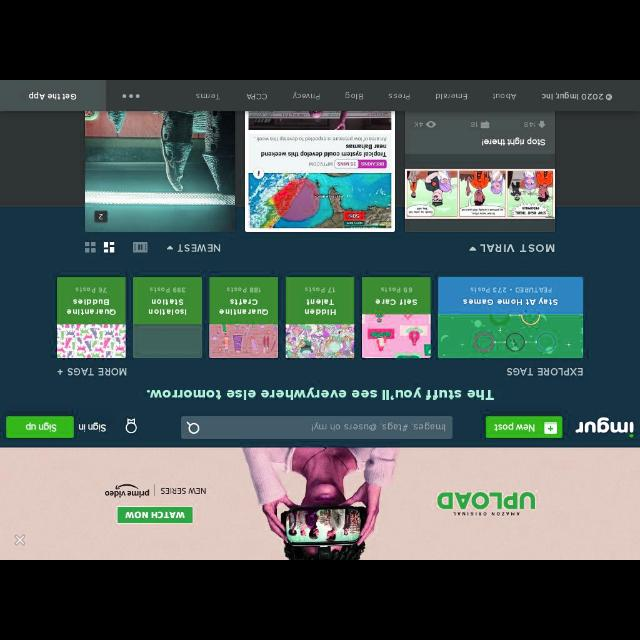icon: (124, 416, 138, 434), (186, 420, 200, 434), (132, 242, 148, 252), (104, 241, 116, 253), (122, 92, 140, 100), (546, 422, 556, 434), (85, 242, 95, 252), (481, 120, 489, 128), (538, 120, 546, 128), (426, 122, 436, 128), (469, 245, 476, 251), (57, 369, 63, 375), (167, 246, 175, 250)
iframe: (1, 448, 639, 560)
image: (85, 111, 233, 231), (248, 172, 389, 226), (406, 170, 554, 218), (437, 315, 583, 359), (362, 314, 432, 358), (249, 112, 391, 130), (286, 324, 354, 358), (210, 324, 278, 358), (58, 324, 125, 358), (132, 325, 202, 357), (576, 416, 634, 438)
input: (182, 414, 452, 440)
spinner: (468, 242, 556, 254), (165, 242, 222, 254)
text: (34, 386, 608, 402), (260, 144, 388, 158), (310, 421, 446, 432), (66, 296, 116, 318), (542, 90, 612, 104), (218, 298, 268, 316), (506, 366, 584, 376), (462, 297, 558, 305), (480, 243, 556, 253), (262, 137, 386, 143), (148, 298, 186, 316), (470, 286, 552, 294), (482, 136, 546, 146), (67, 367, 126, 377), (304, 299, 336, 317), (28, 92, 78, 102), (494, 422, 536, 433), (374, 296, 418, 306), (179, 242, 221, 252), (25, 422, 57, 432), (75, 284, 107, 294), (436, 91, 468, 101), (148, 286, 186, 294), (225, 286, 262, 294), (80, 422, 106, 433), (303, 286, 337, 294), (290, 92, 322, 100), (195, 92, 221, 101), (388, 91, 410, 101), (378, 288, 414, 294), (346, 90, 364, 100), (492, 94, 516, 100), (246, 94, 268, 100), (526, 120, 536, 128), (413, 120, 422, 128), (470, 122, 478, 128)
textbutton: (0, 81, 106, 109), (486, 418, 564, 438), (7, 415, 73, 437)
